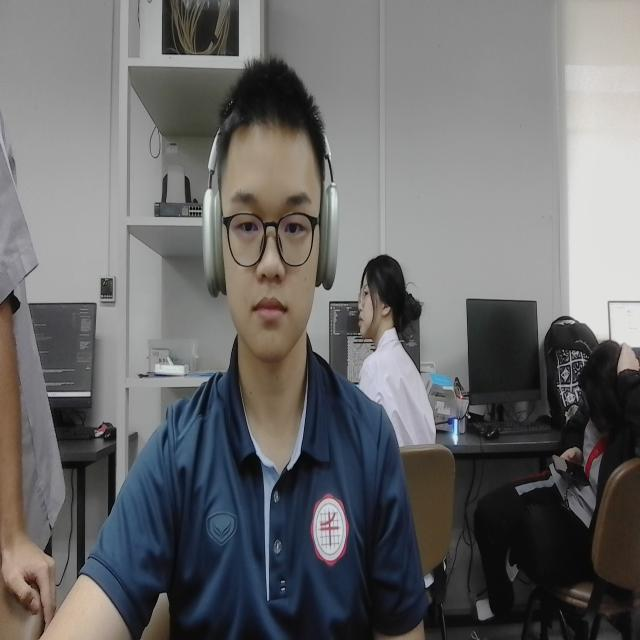airpods max: (193, 52, 341, 315)
